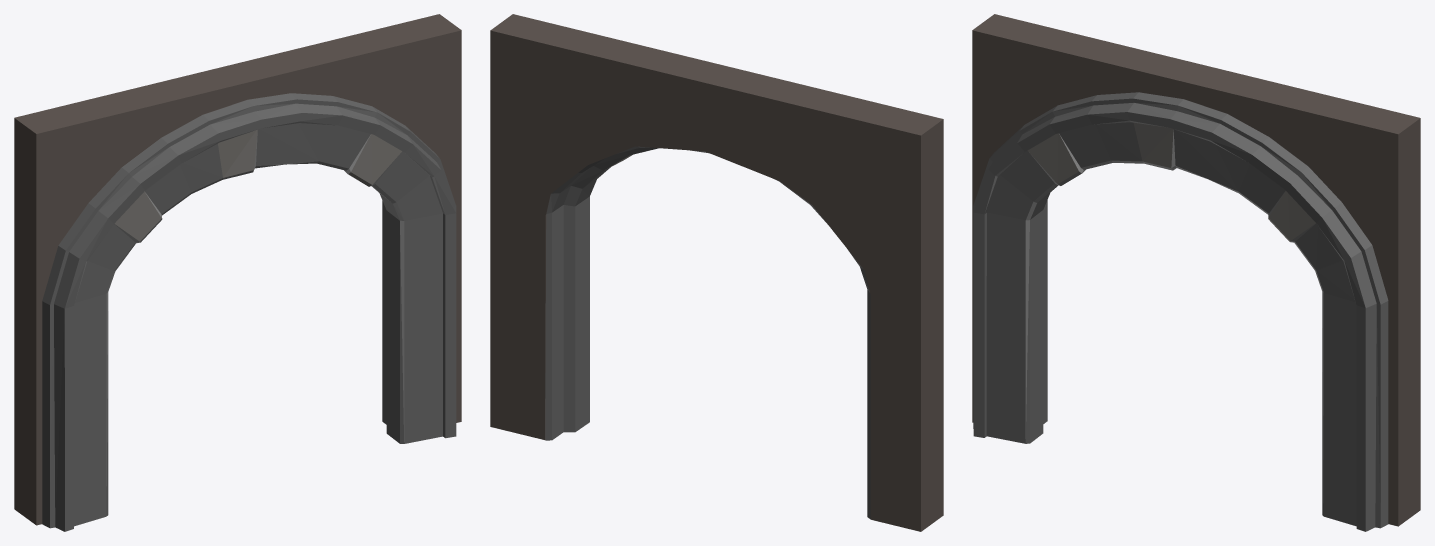
File: MCastle_ArchDoors_03.FBX
The picture shows the model from 3 angles, left to right: view 1: azimuth 30°, elevation 25°; view 2: azimuth 150°, elevation 25°; view 3: azimuth 330°, elevation 25°; orthographic projection.
Visible parts, largest first — view 1: MCastle_ArchDoors_03_LOD0; view 2: MCastle_ArchDoors_03_LOD0; view 3: MCastle_ArchDoors_03_LOD0.
Boxes of the visible parts, <box> form: MCastle_ArchDoors_03_LOD0: <box>14,14,461,531</box>; MCastle_ArchDoors_03_LOD0: <box>490,14,943,531</box>; MCastle_ArchDoors_03_LOD0: <box>972,14,1420,531</box>.
Size of what is drawn, in the model's own units: 4.57 by 4.02 by 0.6664.
